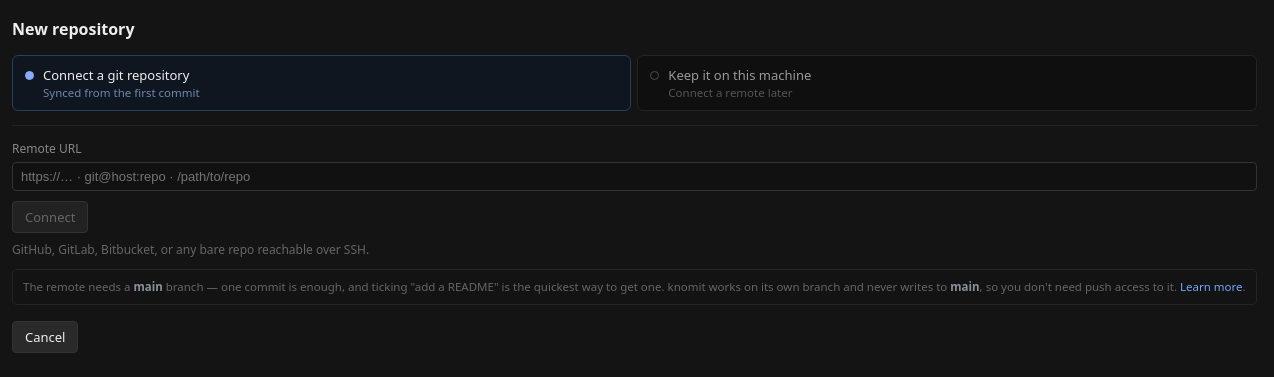
Test case: CreateRepoWizard › shows the agreed local-only trade-off copy, verbatim and unstyled as a warning
Click the button "Keep it on this machine Connect a remote later" at (740, 75), box [637,55,1257,111]
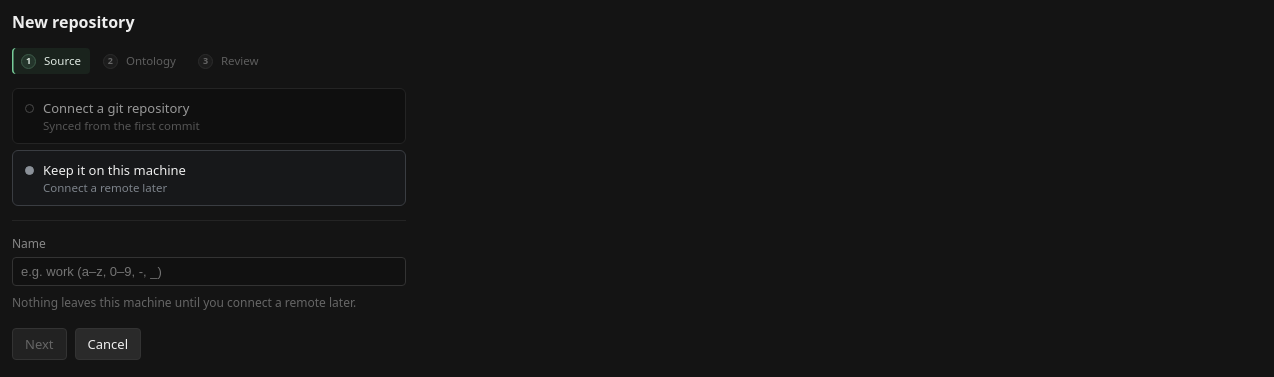
Type "scratch" into the field with test id "create-name" at (209, 271), box [12,257,406,286]
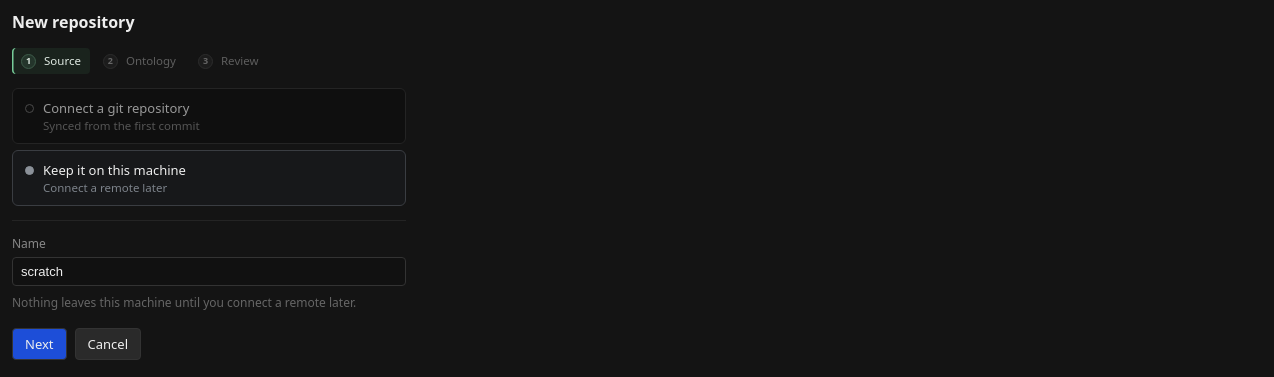
Click the button "Next" at (39, 344), box [12,328,66,360]
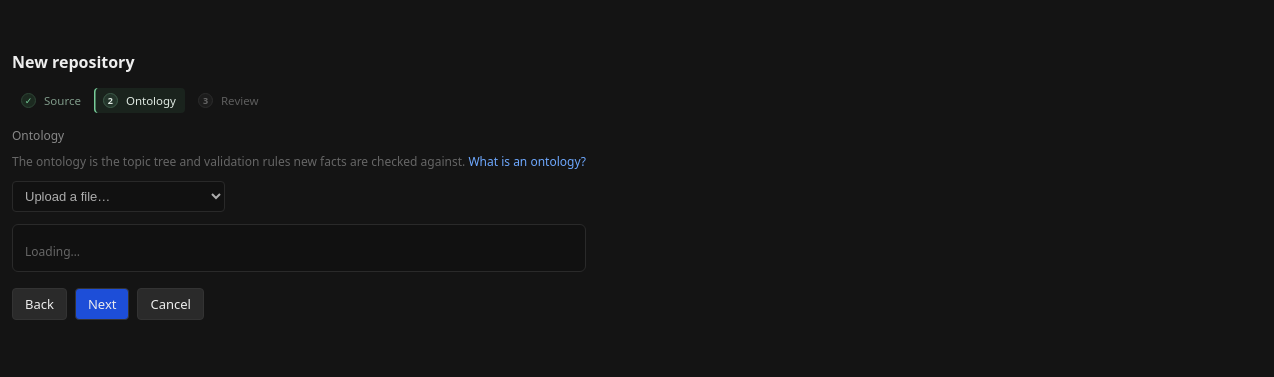
Click the button "Next" at (102, 304), box [75,288,129,320]
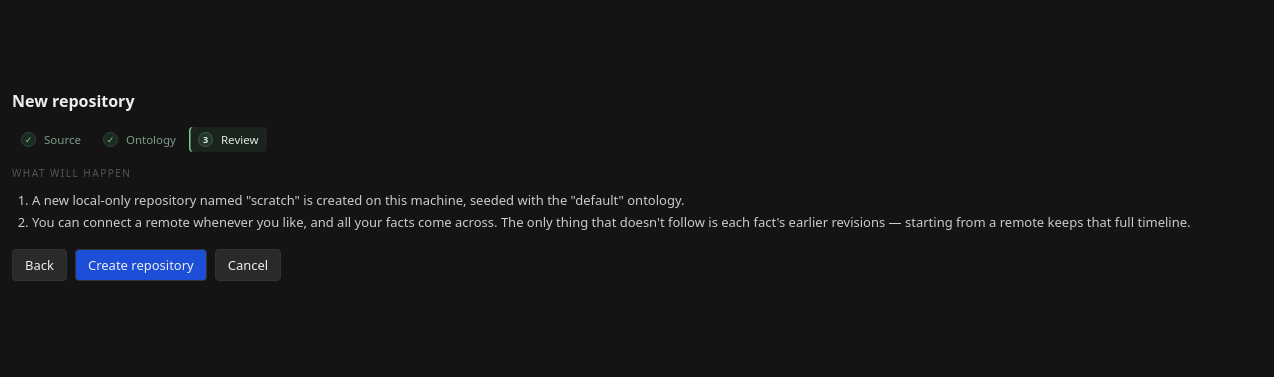
Check: the element with test id "step-review" is shown, box [12,166,1191,233]
Check: the list item "each fact's earlier revisions" is shown, box [32,213,1191,231]
